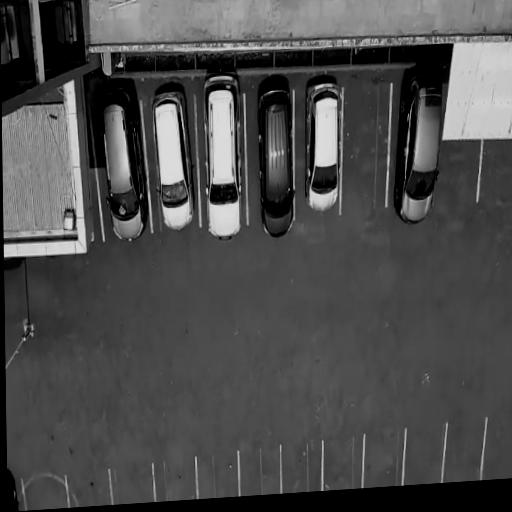Car: (387, 65, 445, 231), (98, 77, 150, 246), (200, 68, 250, 243), (255, 77, 300, 244), (151, 84, 197, 232), (302, 73, 343, 219)
Space Available: (343, 86, 386, 213), (439, 141, 478, 208), (445, 424, 483, 483), (405, 433, 442, 485), (324, 441, 363, 489), (284, 445, 321, 493), (482, 142, 512, 201), (241, 451, 279, 496), (366, 440, 401, 488), (485, 418, 512, 478), (155, 460, 194, 501), (199, 458, 237, 498), (70, 472, 110, 508), (114, 466, 151, 504), (26, 476, 65, 510)
